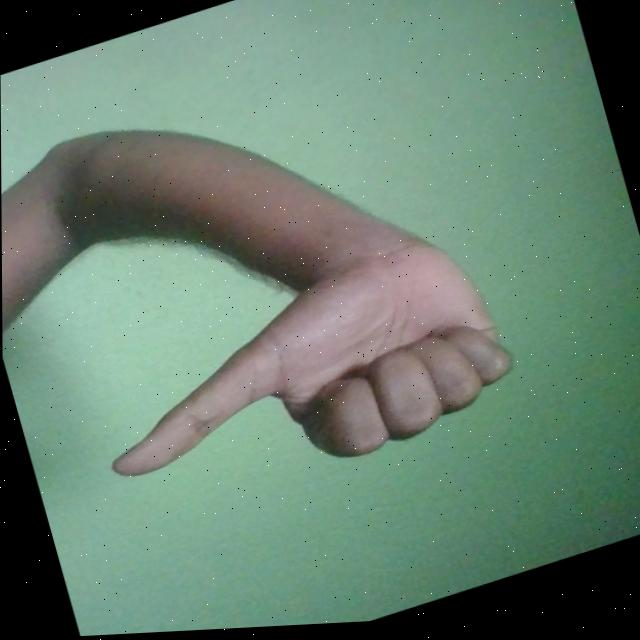Dislike: (76, 222, 527, 531)
